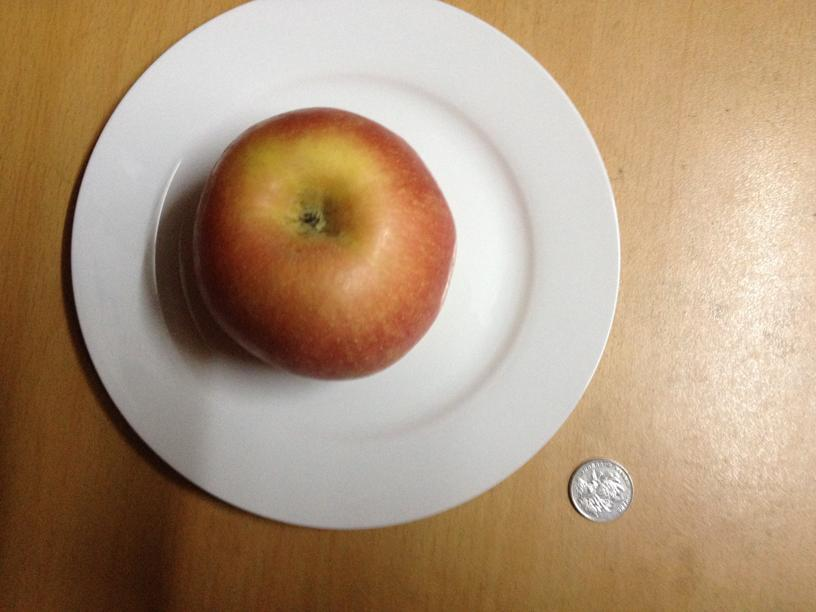apple: (197, 110, 458, 380)
coin: (566, 452, 632, 524)
